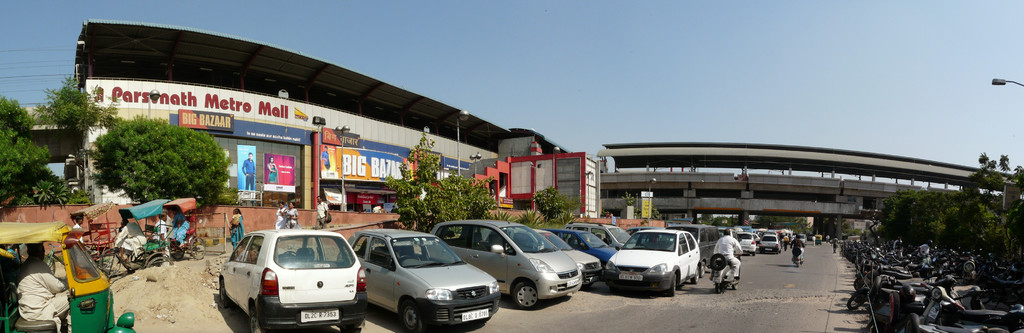Car: (215, 218, 826, 332)
